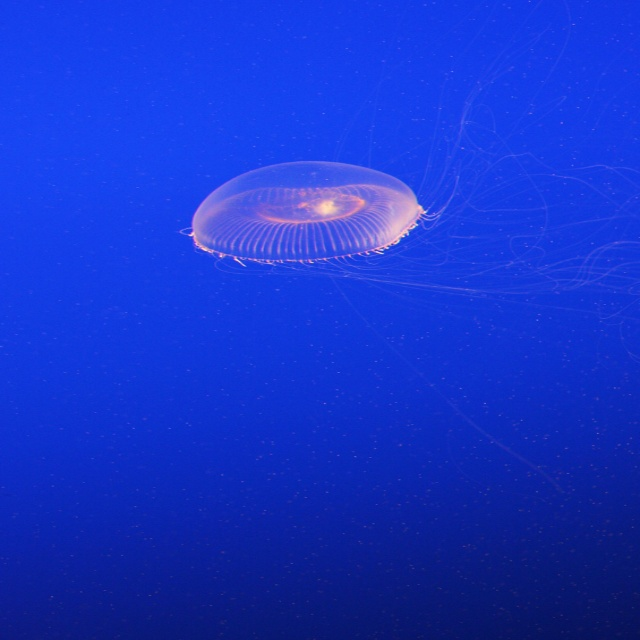Jellyfish: (168, 0, 639, 499)
